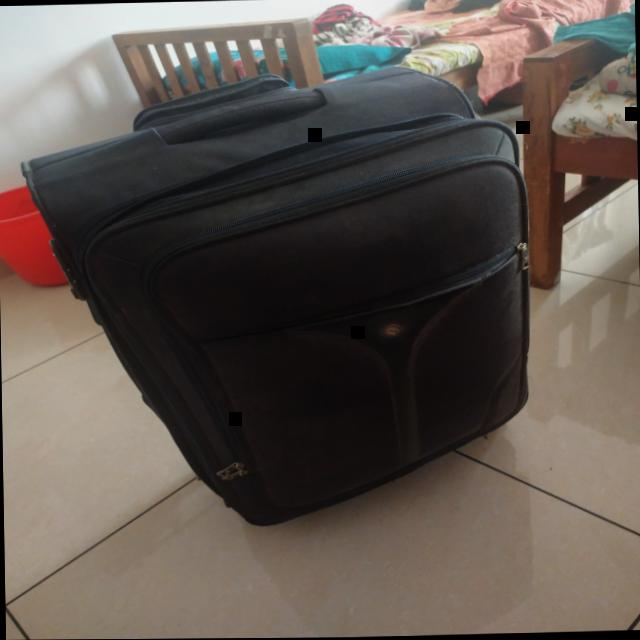luggage: (19, 64, 528, 528)
